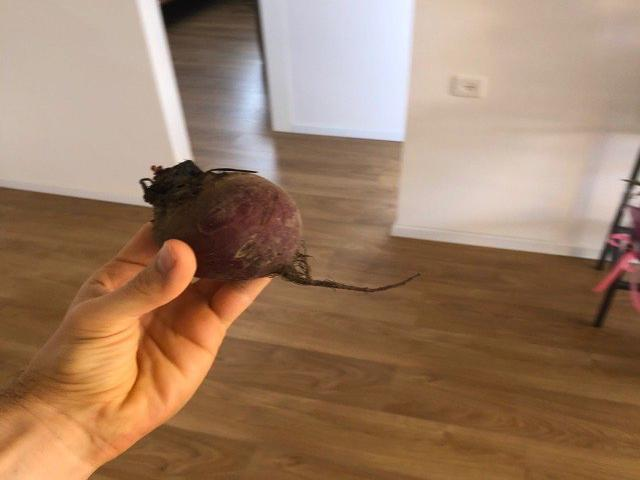beet: (143, 161, 422, 291)
